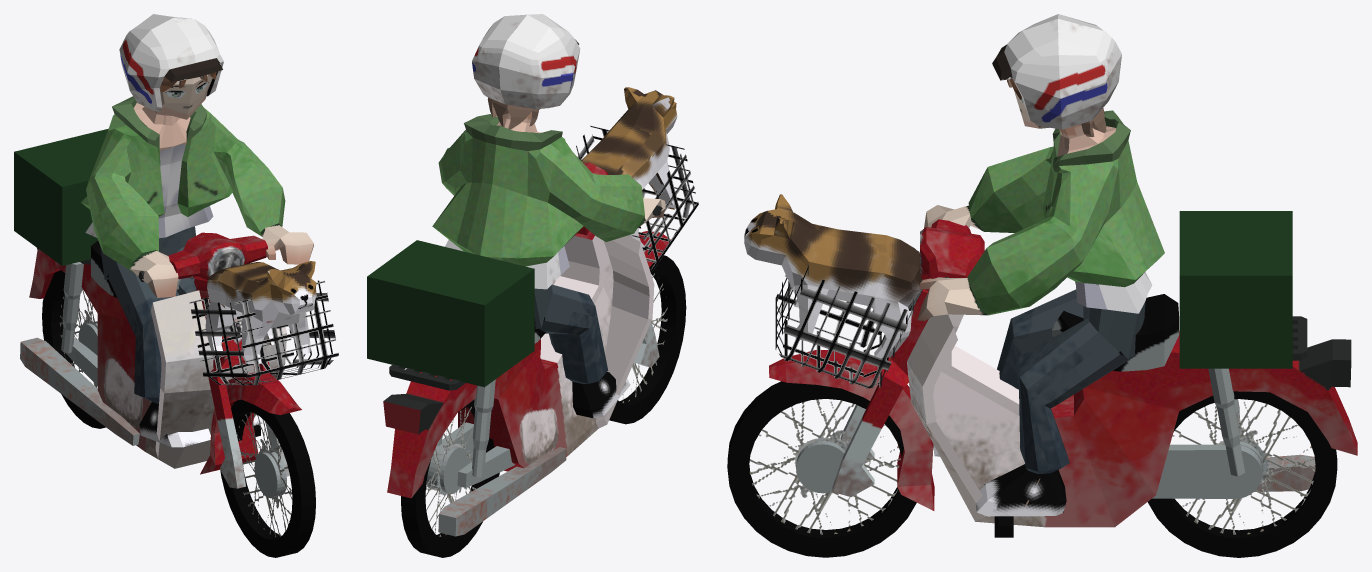
Rendered from Character.fbx.
3 views of the same model, side by side, from view 1: azimuth 30°, elevation 25°; view 2: azimuth 150°, elevation 25°; view 3: azimuth 270°, elevation 25° (orthographic). The views are drawn at different scales.
Parts seen in each view (by area): view 1: Cube.006, Cube.014, Cube.003; view 2: Cube.006, Cube.014, Cube.003; view 3: Cube.006, Cube.014, Cube.003.
Part boxes in pixels (x1=…): Cube.006: x1=14, y1=128, x2=338, y2=557; Cube.014: x1=81, y1=14, x2=313, y2=447; Cube.003: x1=205, y1=261, x2=316, y2=364; Cube.006: x1=367, y1=125, x2=698, y2=557; Cube.014: x1=432, y1=14, x2=665, y2=418; Cube.003: x1=581, y1=87, x2=677, y2=247; Cube.006: x1=727, y1=211, x2=1357, y2=557; Cube.014: x1=917, y1=14, x2=1164, y2=516; Cube.003: x1=744, y1=194, x2=921, y2=358.
Bounding box in the file's own units: 105 × 251 × 267.
5 materials, 4 textured.
